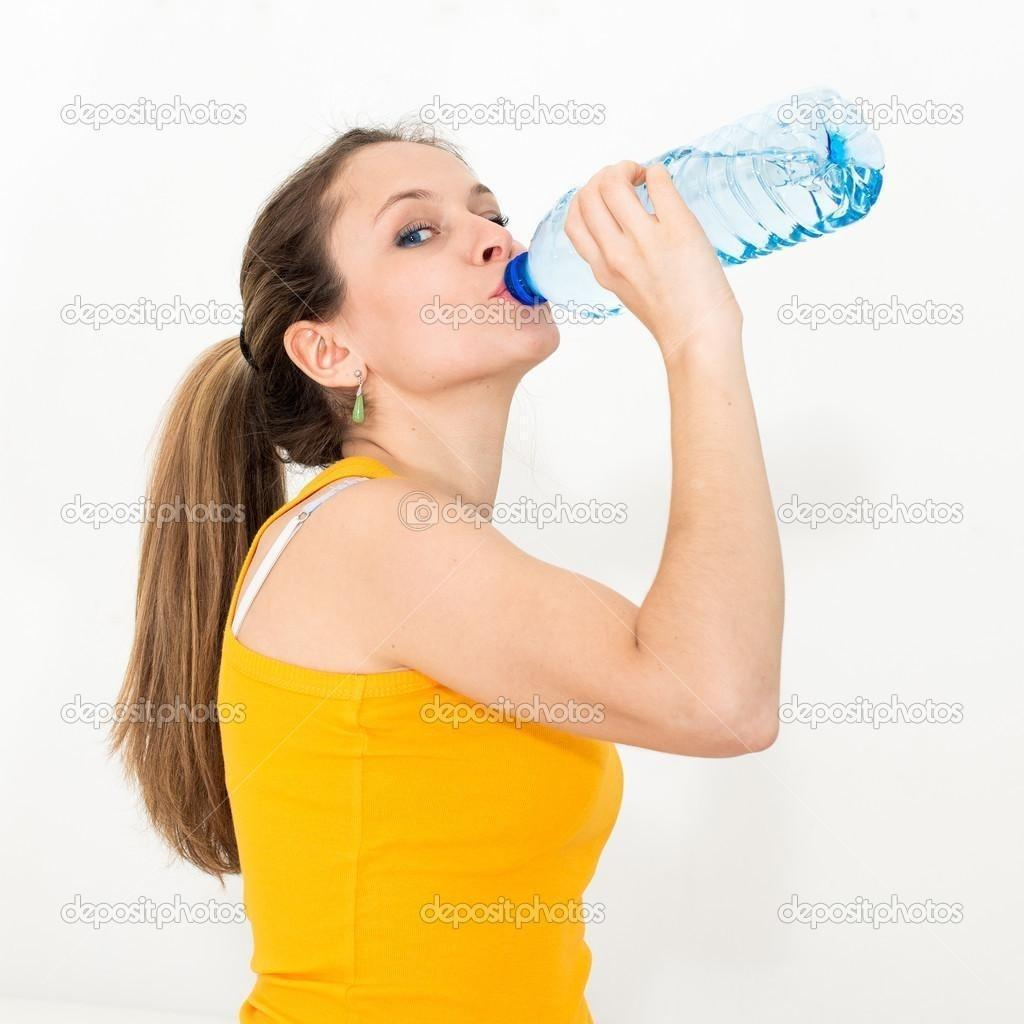bottle-plastic: (496, 91, 892, 328)
